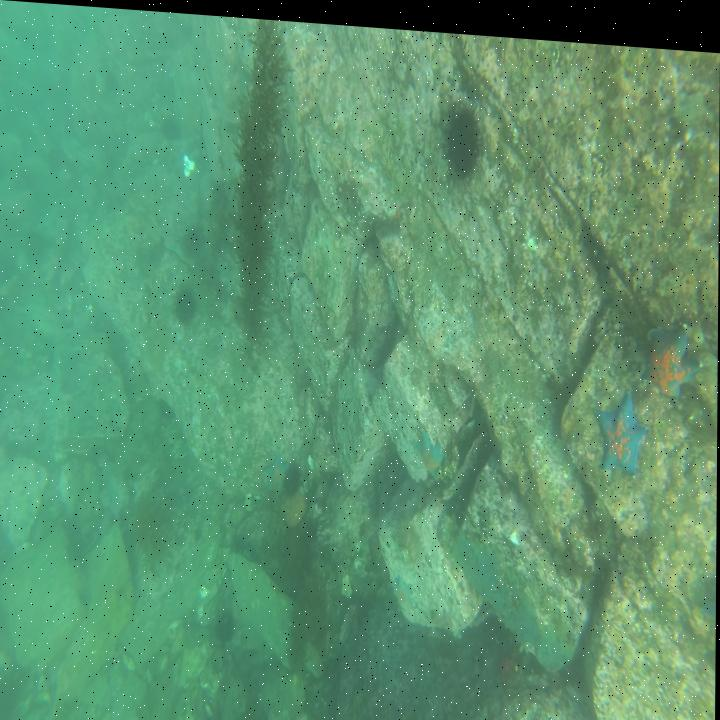echinus: (439, 90, 484, 180), (394, 509, 424, 563), (172, 283, 197, 324), (214, 605, 235, 641), (285, 452, 302, 492)
starfish: (641, 305, 701, 400), (593, 379, 651, 477), (412, 420, 444, 472), (263, 448, 289, 491)
